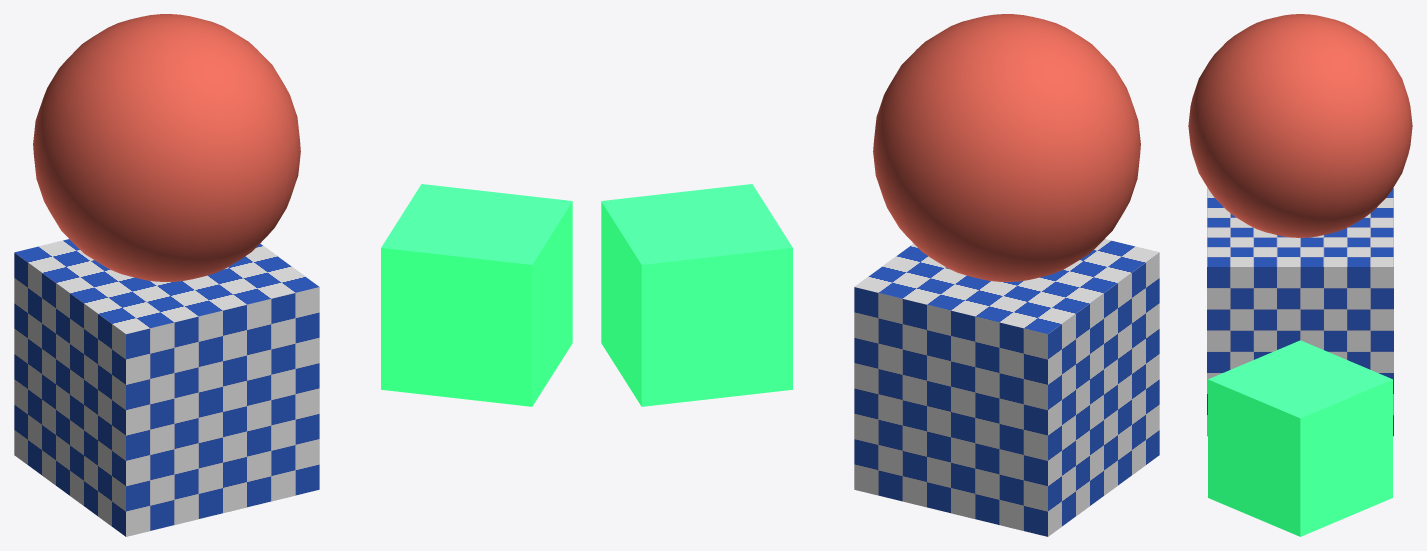
File: TestModel.glb
3 views of the same model, side by side, from view 1: azimuth 30°, elevation 25°; view 2: azimuth 150°, elevation 25°; view 3: azimuth 270°, elevation 25° (orthographic). The views are drawn at different scales.
Visible parts, largest first — view 1: Cube, Sphere, MirroredCube; view 2: Cube, Sphere, MirroredCube; view 3: Sphere, MirroredCube, Cube.
Part boxes in pixels (x1,y1,x2,y2): Cube: (14,239,319,536); Sphere: (33,14,300,281); MirroredCube: (381,184,572,406); Cube: (854,239,1159,536); Sphere: (873,14,1140,281); MirroredCube: (601,184,792,406); Sphere: (1188,14,1412,237); MirroredCube: (1208,340,1392,536); Cube: (1207,188,1393,436).
Size of the model in its own units: 2.69 by 2.2 by 1.2.
Materials: 3 (1 with a texture image).
